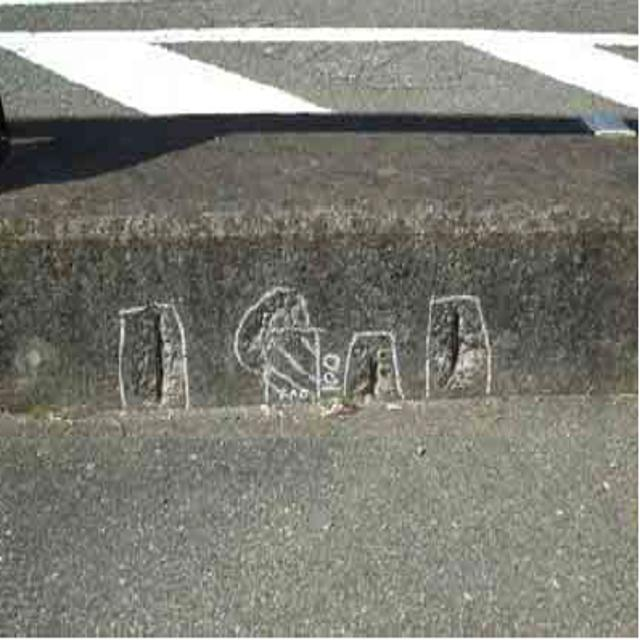spalling: (238, 293, 332, 403), (421, 287, 506, 404), (113, 300, 198, 410), (349, 327, 407, 407)
